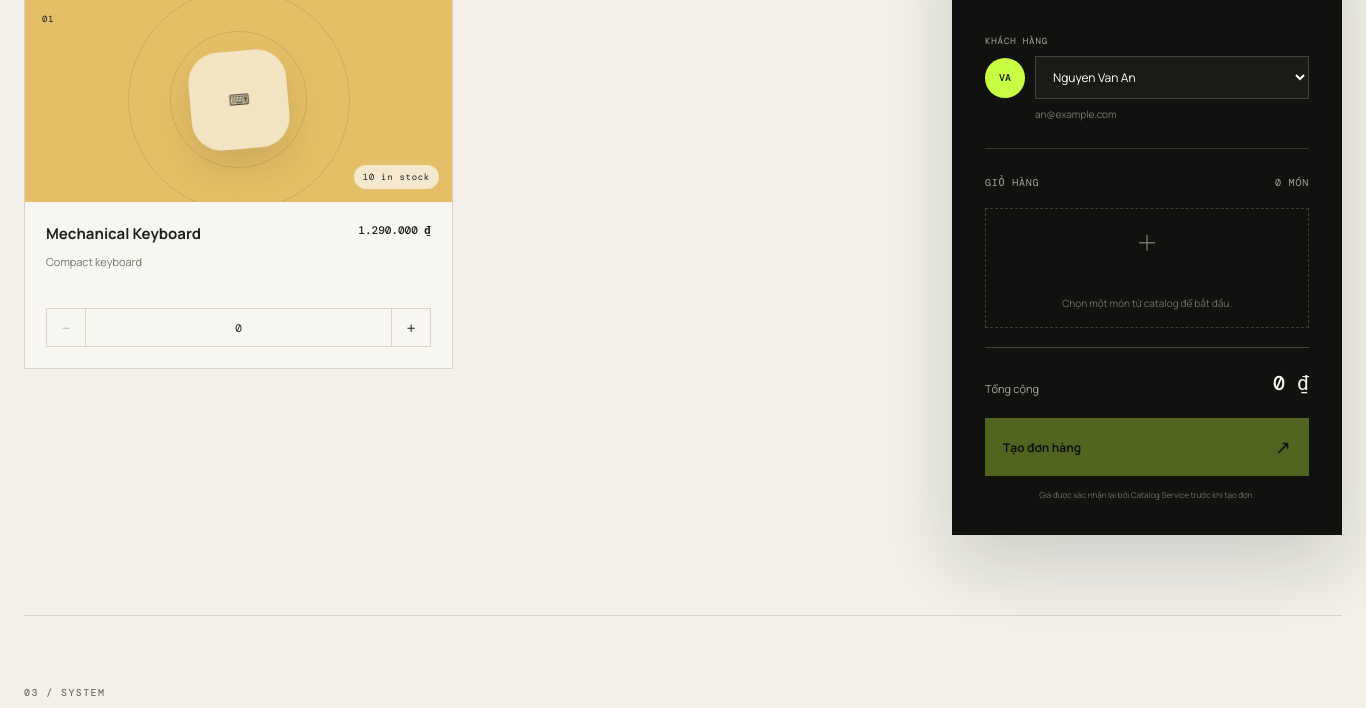
Test: App › loads the storefront, shows service versions and creates an order
(page scrolled)
Expected: the heading "Mechanical Keyboard" is shown, [46,223,201,244]
Click the button named "Thêm Mechanical Keyboard". click: click(411, 328)
box: [392,309,430,346]
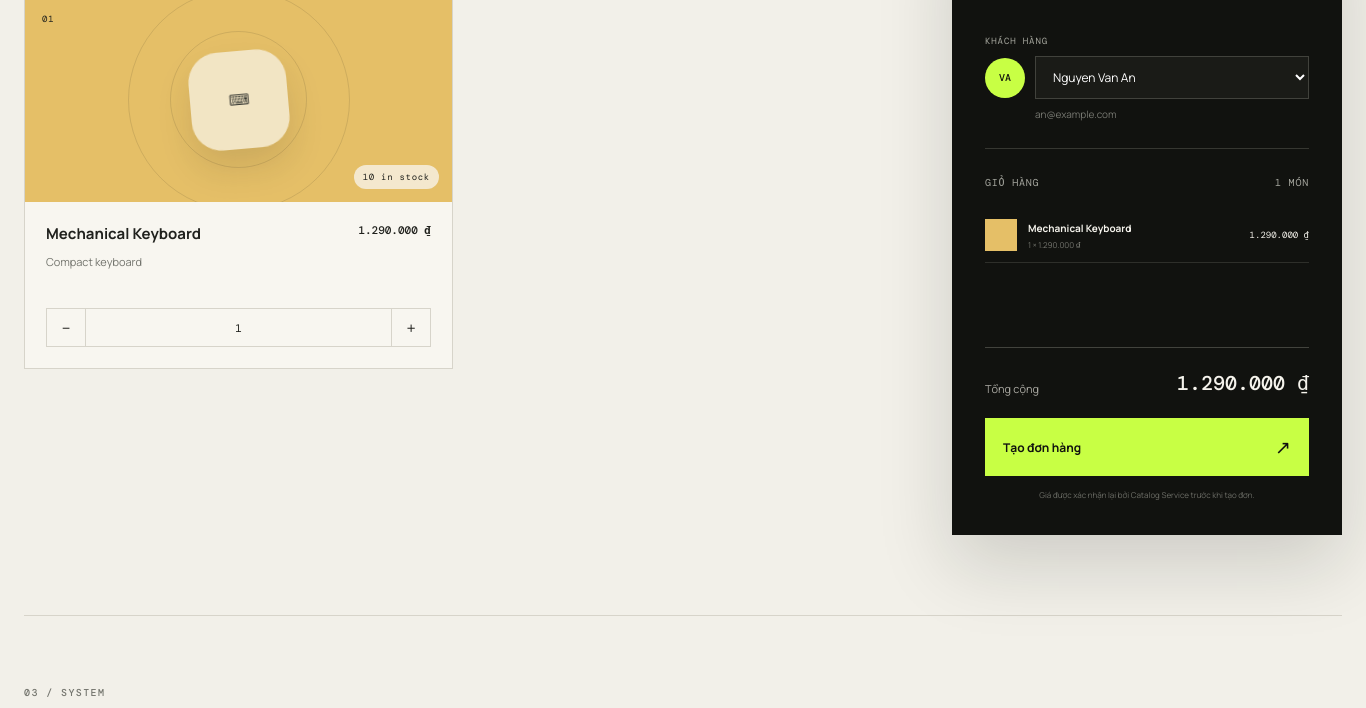
Click the button "Tạo đơn hàng ↗". click: click(1042, 447)
box: [985,418,1309,476]
(page scrolled)
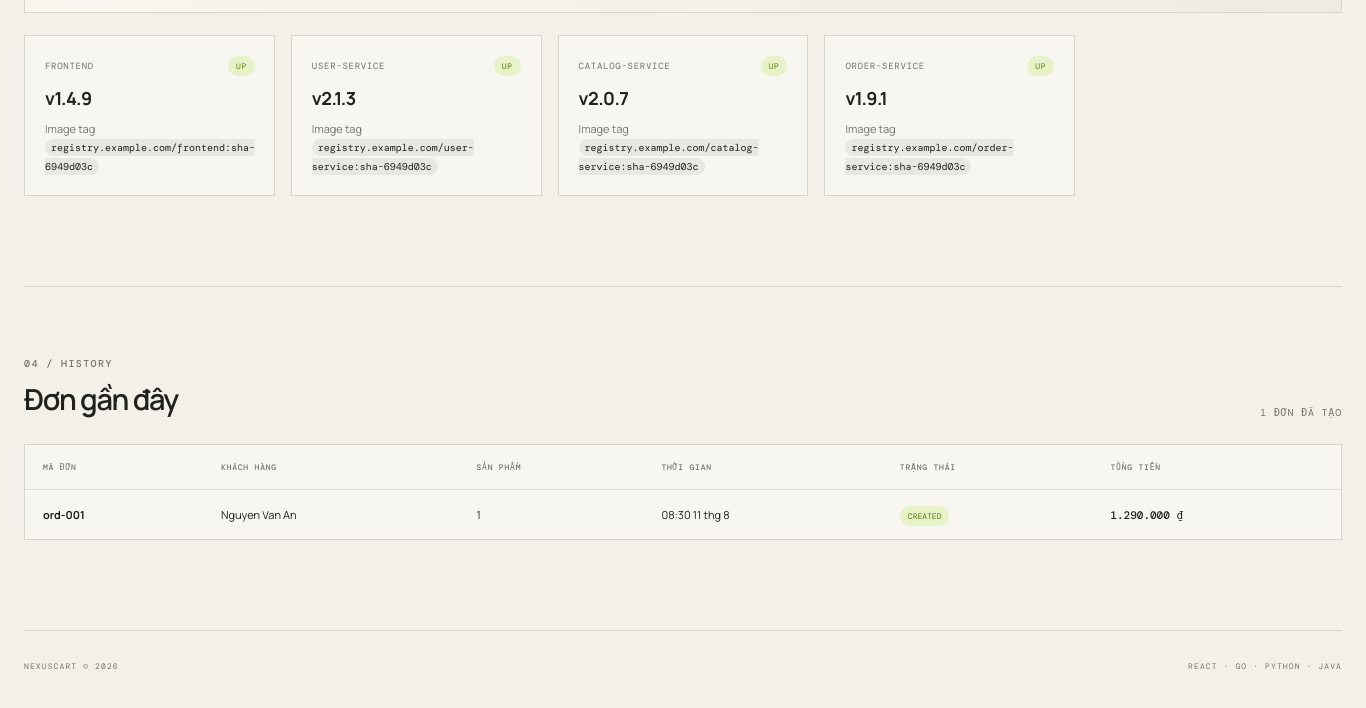
Now the text "ord-001" is shown, box [43,507,85,522]
